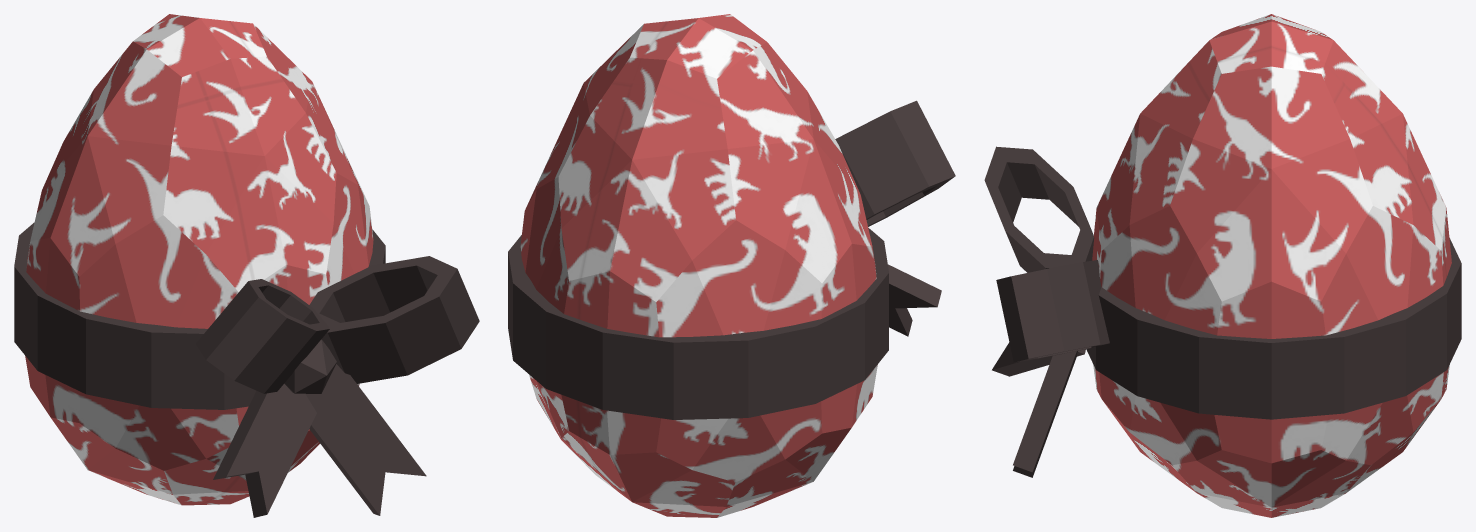
Rendered from Egg.fbx.
3 views of the same model, side by side, from view 1: azimuth 30°, elevation 25°; view 2: azimuth 150°, elevation 25°; view 3: azimuth 270°, elevation 25° (orthographic). The views are drawn at different scales.
Parts seen in each view (by area): view 1: Easter-Egg; view 2: Easter-Egg; view 3: Easter-Egg.
Boxes of the visible parts, bbox=[...] form: Easter-Egg: bbox=[14, 14, 479, 517]; Easter-Egg: bbox=[508, 14, 955, 517]; Easter-Egg: bbox=[984, 14, 1461, 517].
Bounding box in the file's own units: 90 × 125 × 113.
